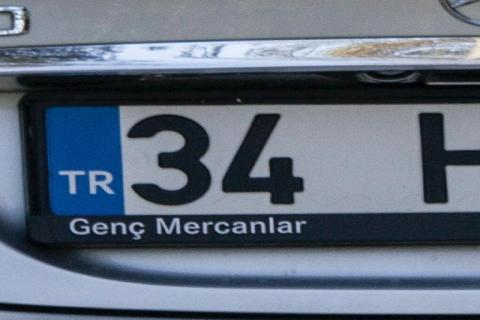LicensePlate: (0, 87, 414, 221)
